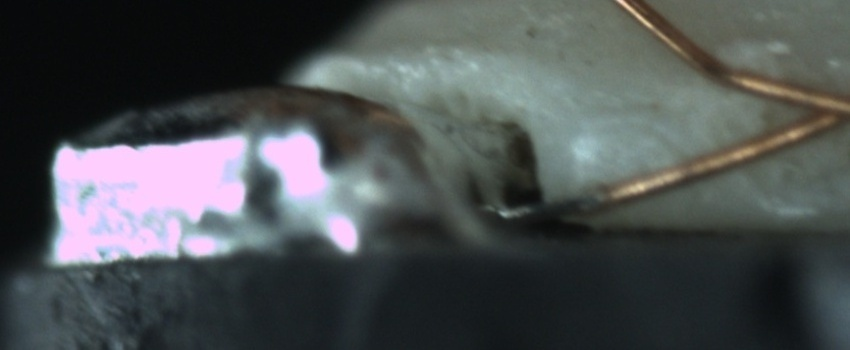CL: (764, 72, 850, 148)
DL: (567, 83, 696, 148)
TS: (476, 185, 601, 223)
